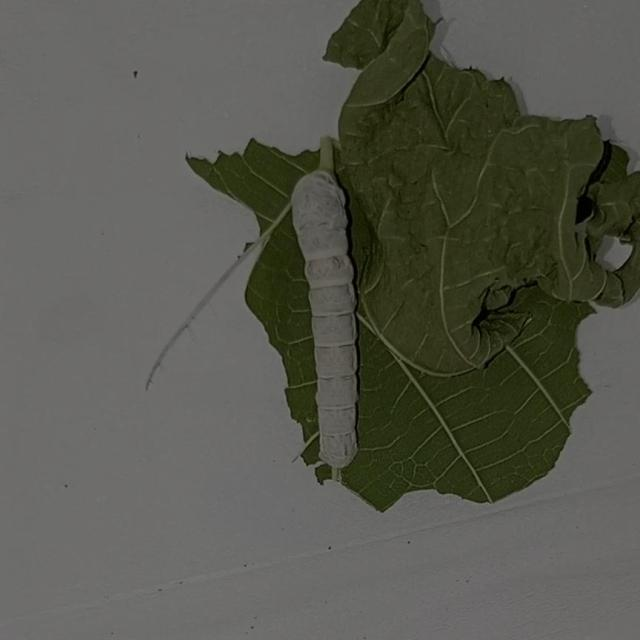Healthy: (282, 158, 376, 477)
